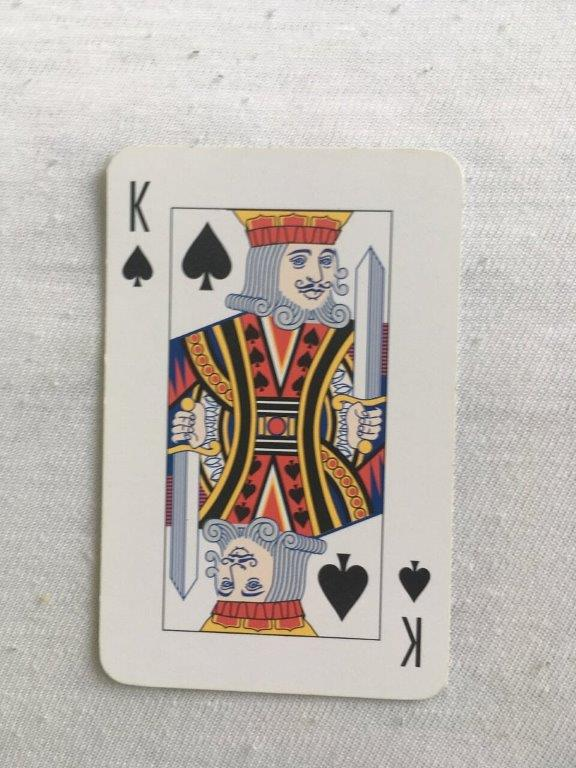KS: (94, 142, 469, 707)
